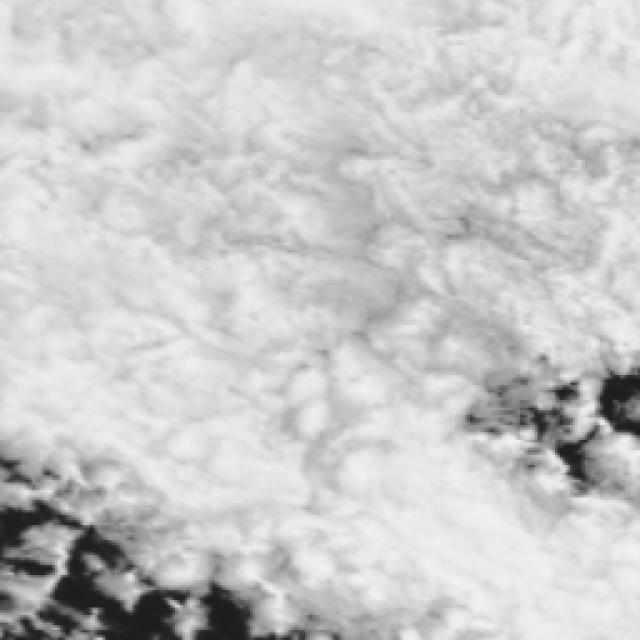CB: (3, 4, 582, 343), (6, 340, 418, 441), (449, 526, 634, 635), (389, 452, 501, 576)
